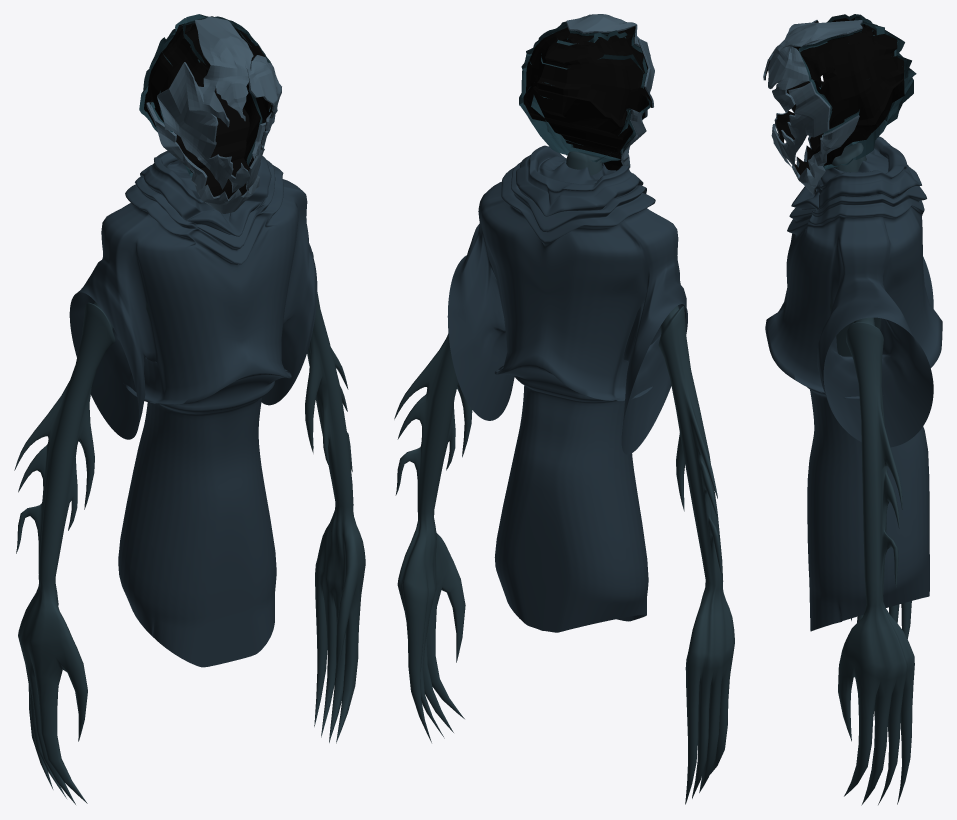
The model's file is espectro.glb.
3 views of the same model, side by side, from view 1: azimuth 30°, elevation 25°; view 2: azimuth 150°, elevation 25°; view 3: azimuth 270°, elevation 25° (orthographic). The views are drawn at different scales.
Visible parts, largest first — view 1: Object_7, Object_10, Object_9, Object_4, Object_8, Object_2; view 2: Object_7, Object_10, Object_4, Object_2, Object_9; view 3: Object_7, Object_10, Object_4, Object_9, Object_2, Object_8, Object_6, Object_5.
Part boxes in pixels (left/top/right/bottom): Object_7: left=69, top=151, right=317, bottom=667; Object_10: left=14, top=252, right=365, bottom=804; Object_9: left=157, top=16, right=281, bottom=192; Object_4: left=144, top=19, right=271, bottom=198; Object_8: left=146, top=102, right=271, bottom=213; Object_2: left=139, top=14, right=271, bottom=176; Object_7: left=447, top=145, right=687, bottom=632; Object_10: left=394, top=151, right=734, bottom=804; Object_4: left=523, top=27, right=648, bottom=170; Object_2: left=519, top=21, right=651, bottom=163; Object_9: left=566, top=14, right=654, bottom=119; Object_7: left=765, top=136, right=942, bottom=631; Object_10: left=830, top=143, right=914, bottom=805; Object_4: left=800, top=16, right=904, bottom=166; Object_9: left=763, top=20, right=862, bottom=167; Object_2: left=798, top=14, right=916, bottom=169; Object_8: left=792, top=115, right=859, bottom=194; Object_6: left=765, top=20, right=861, bottom=158; Object_5: left=794, top=133, right=823, bottom=193.
Bounding box in the file's own units: 11.88 × 25.52 × 5.73.
